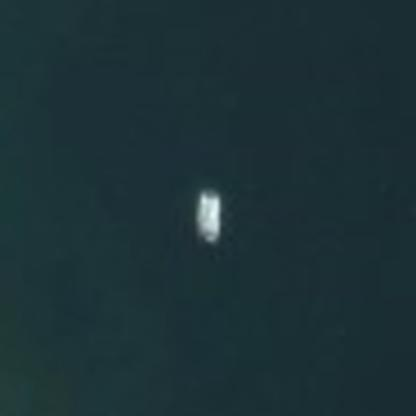ship: (188, 177, 228, 252)
